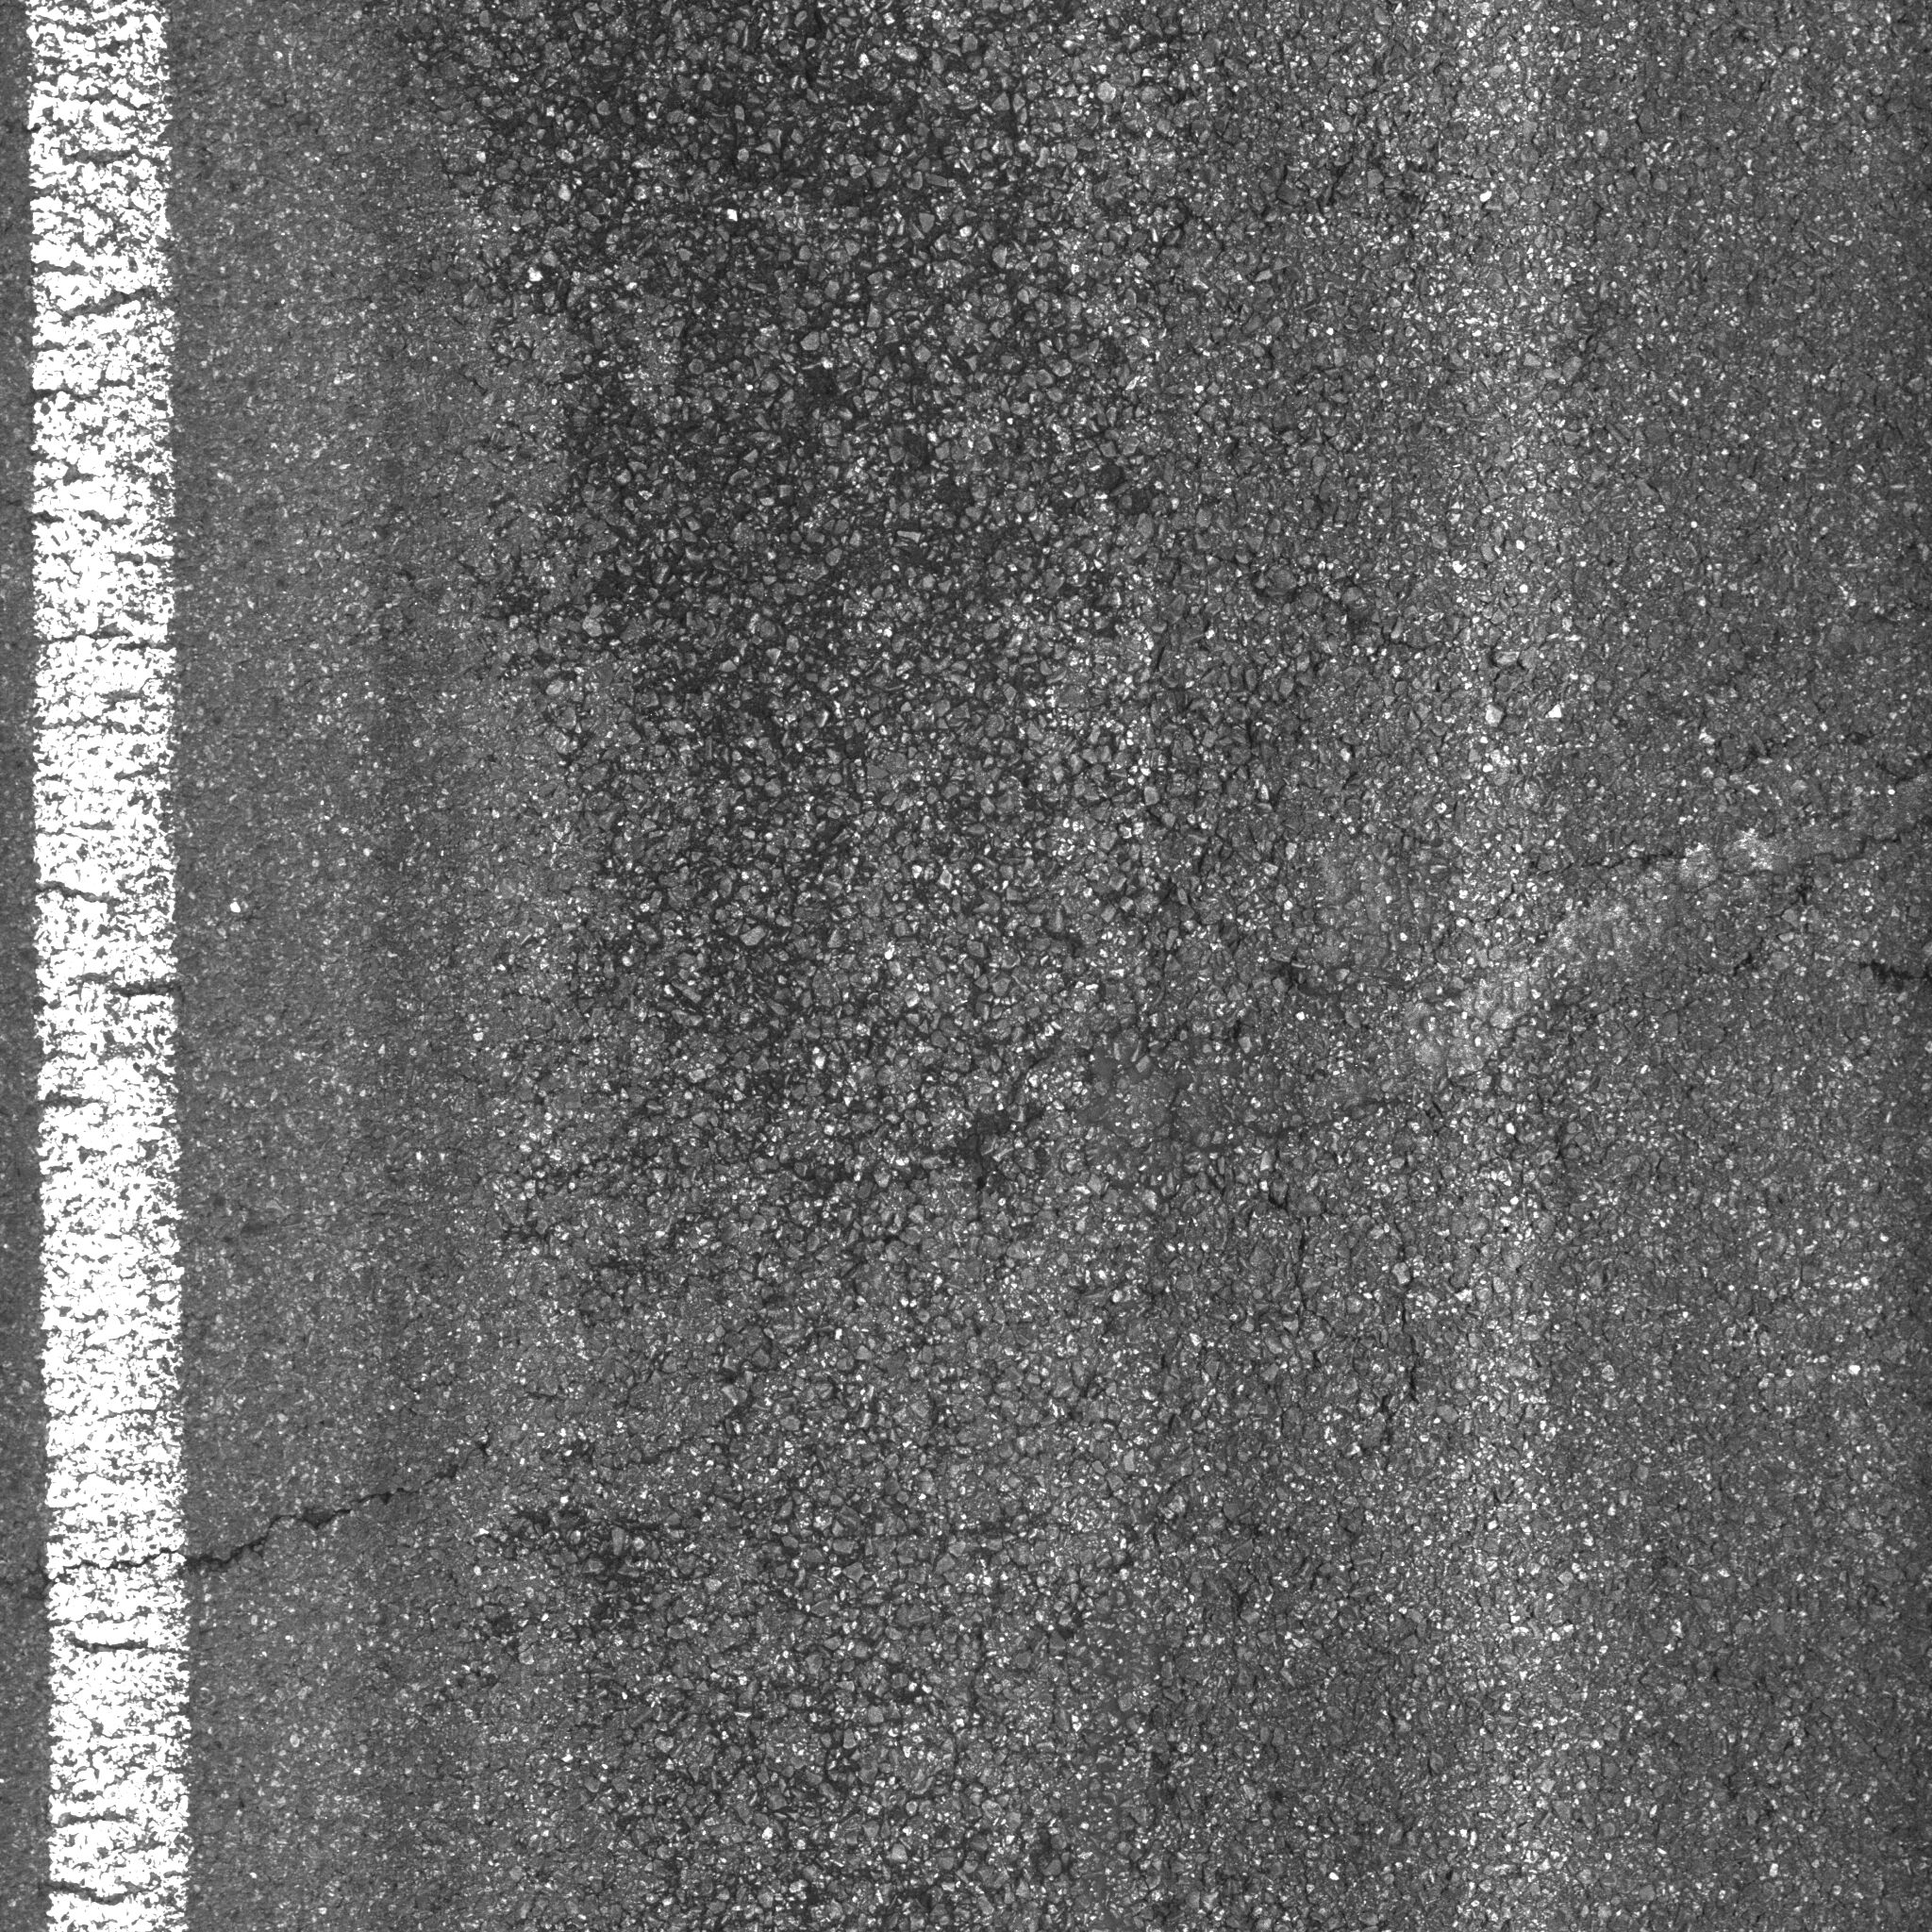transeverse: (1391, 752, 1932, 1019), (5, 1430, 518, 1629)
